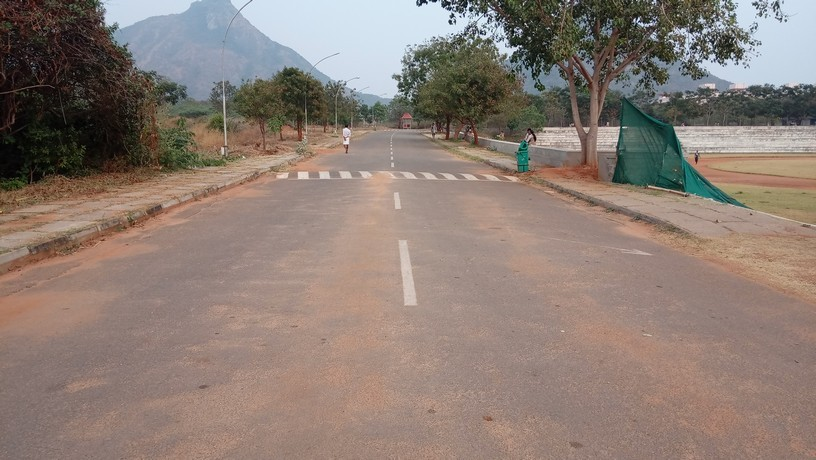bump: (266, 167, 520, 184)
